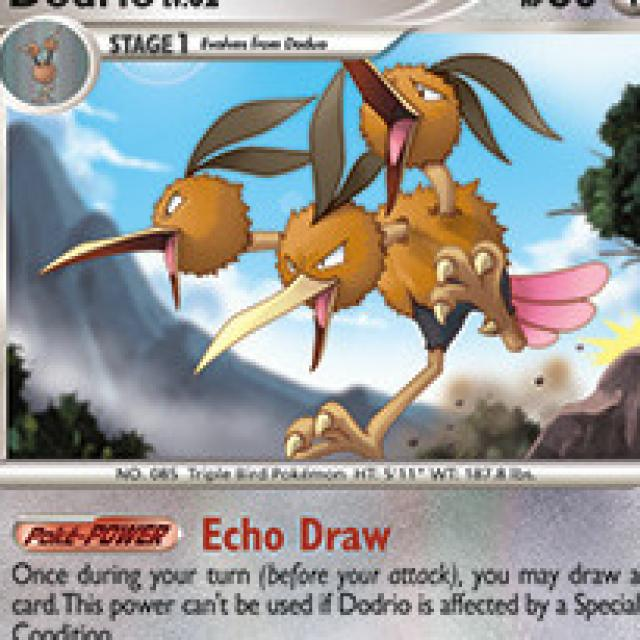Dodrio: (159, 64, 541, 453)
